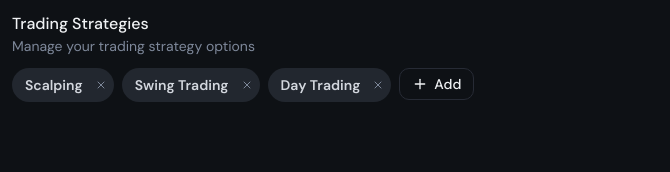
DropdownOptionsManager › shows input field with custom placeholder
The image size is (670, 172).
What coordinates should you click on to do the following:
click the button "Add"
I would click on:
 (437, 84)
Its box is x1=399 y1=68 x2=474 y2=100.
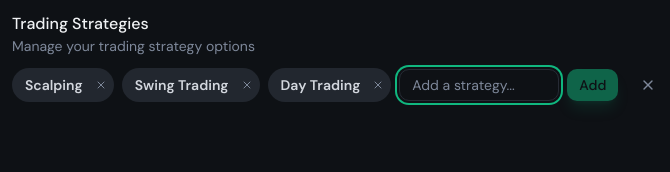
Check: the field with placeholder "Add a strategy..." is shown, box x1=399 y1=69 x2=559 y2=101
